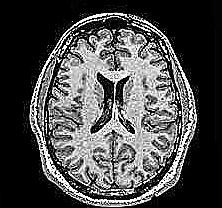Normal_Brain: (1, 1, 206, 207)
